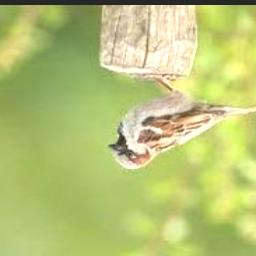Sparrow: (108, 75, 256, 170)
